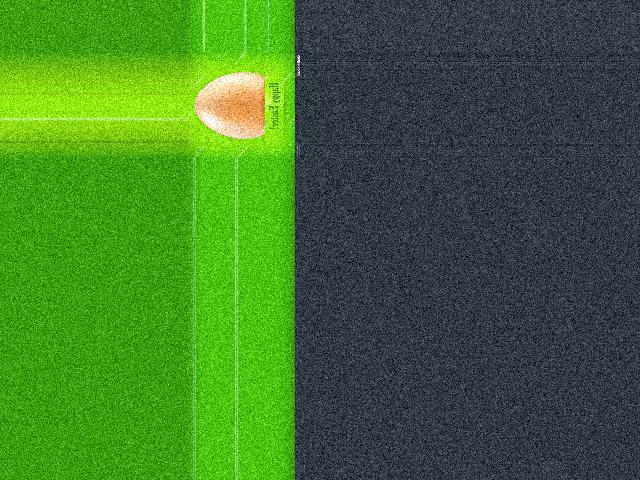egg: (194, 72, 264, 139)
